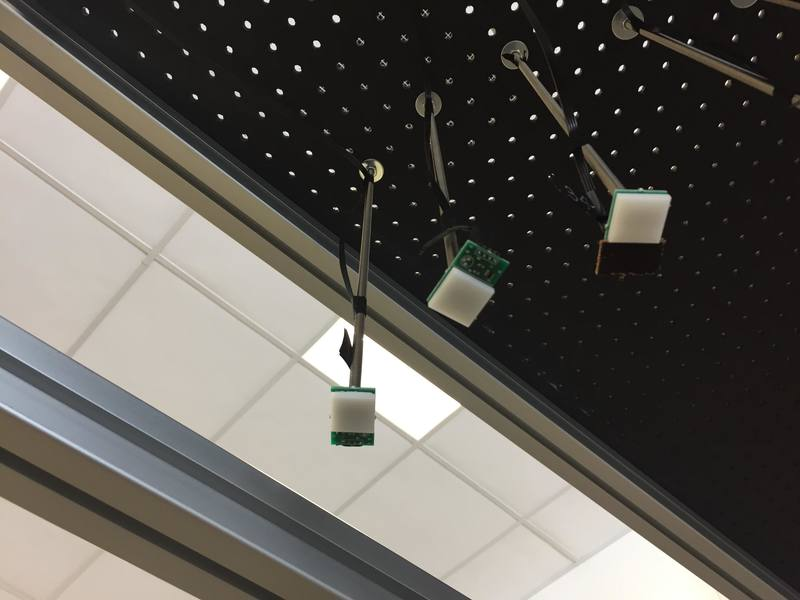target: (428, 269, 492, 327), (612, 188, 670, 246), (328, 387, 375, 436)
